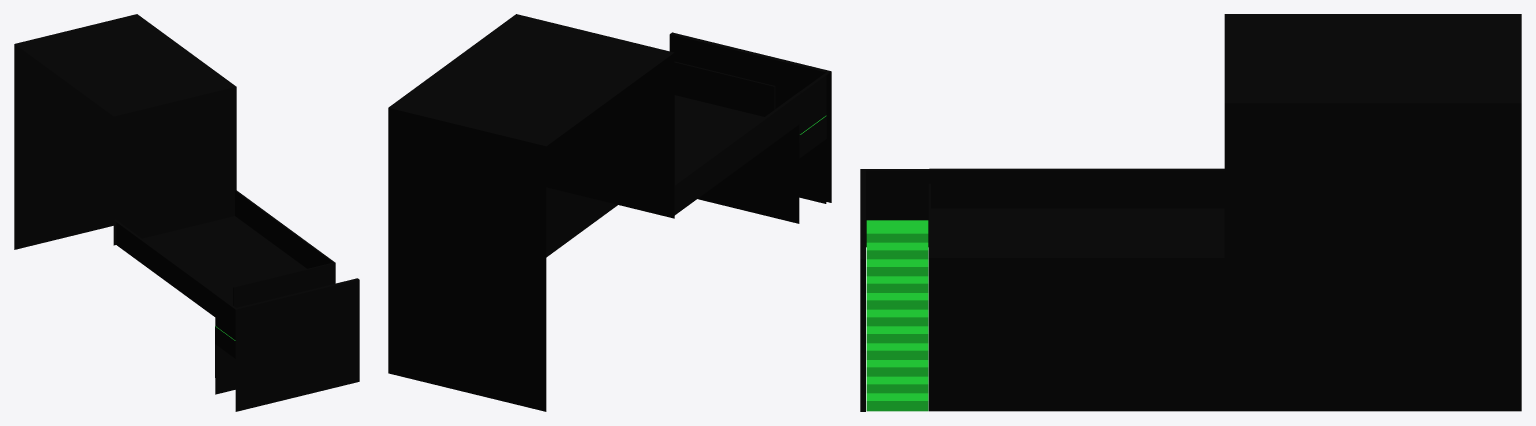
File: office_building.fbx
The picture shows the model from 3 angles, left to right: view 1: azimuth 30°, elevation 25°; view 2: azimuth 150°, elevation 25°; view 3: azimuth 270°, elevation 25°; orthographic projection. The views are drawn at different scales.
Visible parts, largest first — view 1: office_building; view 2: office_building; view 3: office_building.
Boxes of the visible parts, x1,y1,x2,y2 form: office_building: (14,14,359,411); office_building: (388,14,831,411); office_building: (860,14,1521,411).
Bounding box in the file's own units: 504 × 802 × 1561.
